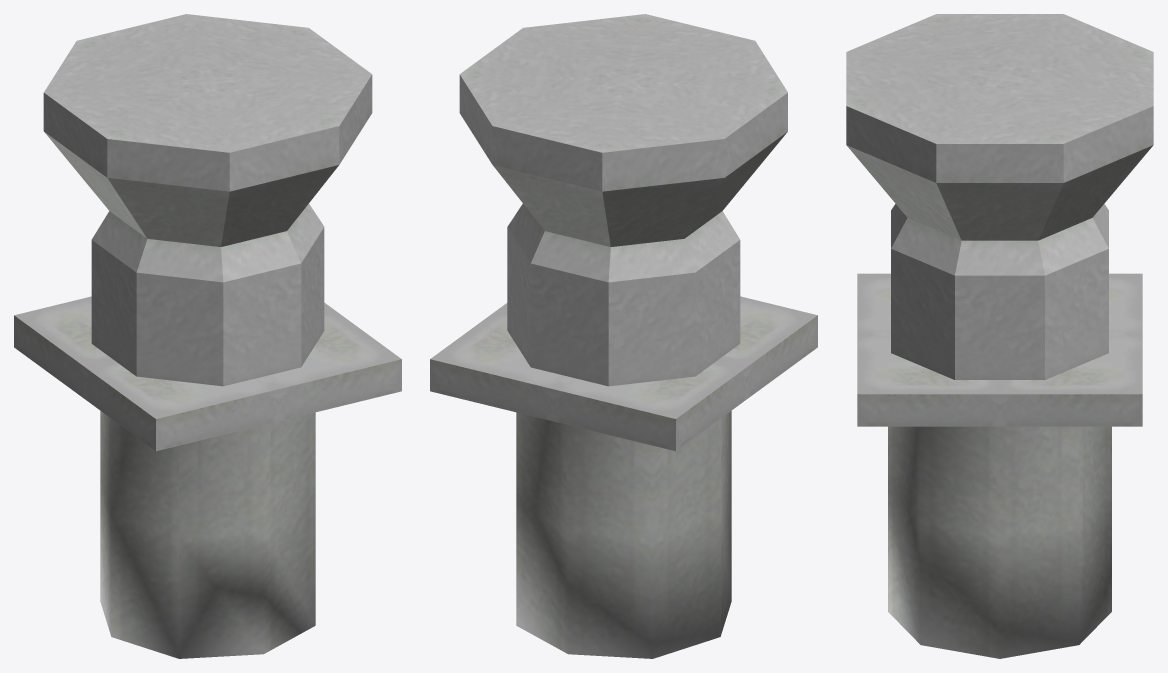
Rendered from general_obj_bigtower07.fbx.
The picture shows the model from 3 angles, left to right: view 1: azimuth 30°, elevation 25°; view 2: azimuth 150°, elevation 25°; view 3: azimuth 270°, elevation 25°; orthographic projection.
Parts seen in each view (by area): view 1: Sphere01; view 2: Sphere01; view 3: Sphere01.
Boxes of the visible parts, x1,y1,x2,y2 form: Sphere01: (14, 14, 401, 658); Sphere01: (430, 14, 817, 658); Sphere01: (846, 14, 1153, 658).
Bounding box in the file's own units: 4.31 × 8.28 × 4.31.
